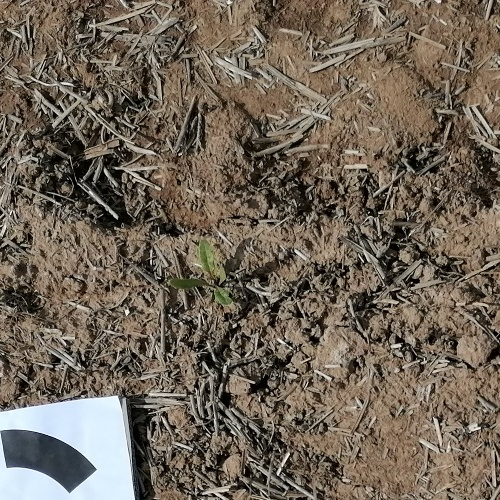beet: (168, 239, 235, 305)
